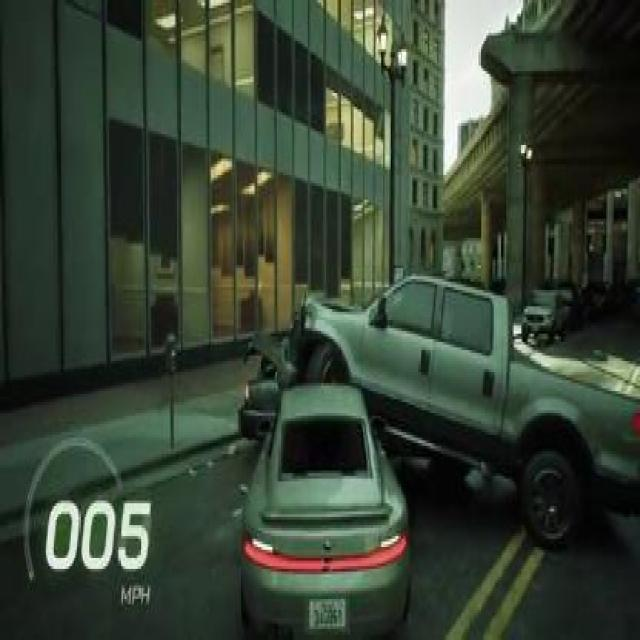accident: (226, 255, 640, 638)
